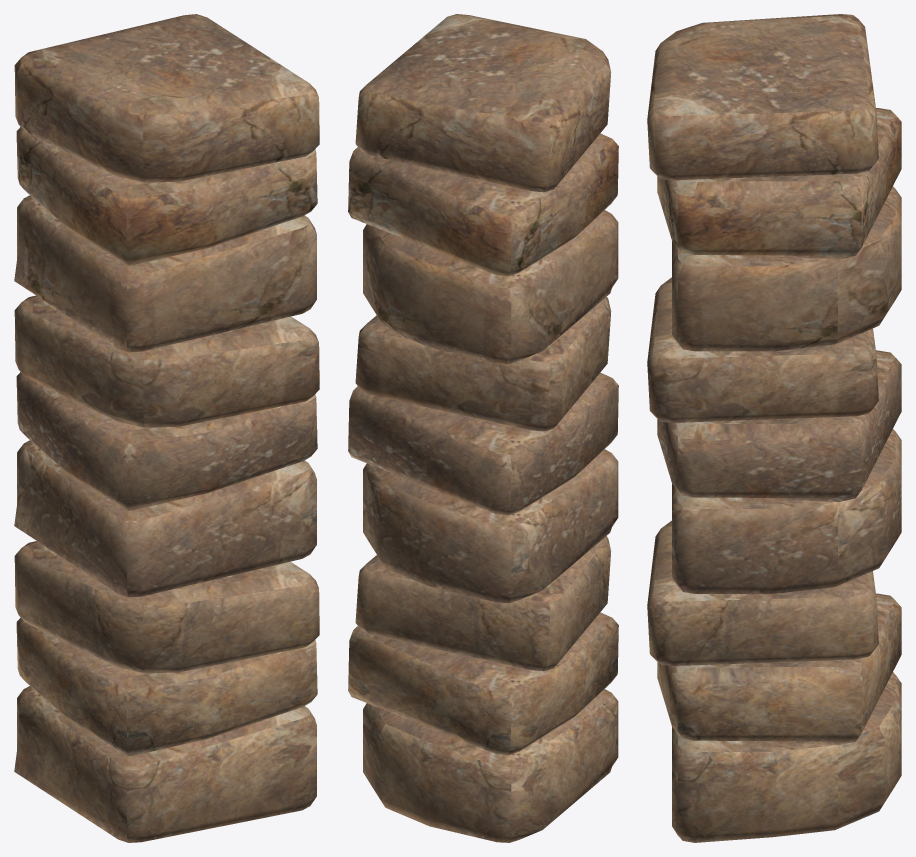
File: Rock_Stack.fbx
3 renders of one model, left to right at view 1: azimuth 30°, elevation 25°; view 2: azimuth 150°, elevation 25°; view 3: azimuth 270°, elevation 25°, orthographic. The views are drawn at different scales.
Parts seen in each view (by area): view 1: Cube; view 2: Cube; view 3: Cube.
Boxes of the visible parts, bbox=[...] form: Cube: bbox=[14, 14, 319, 842]; Cube: bbox=[348, 14, 618, 842]; Cube: bbox=[647, 14, 901, 842].
Size of the model in its own units: 221 by 711 by 221.
Materials: 1 (1 with a texture image).
